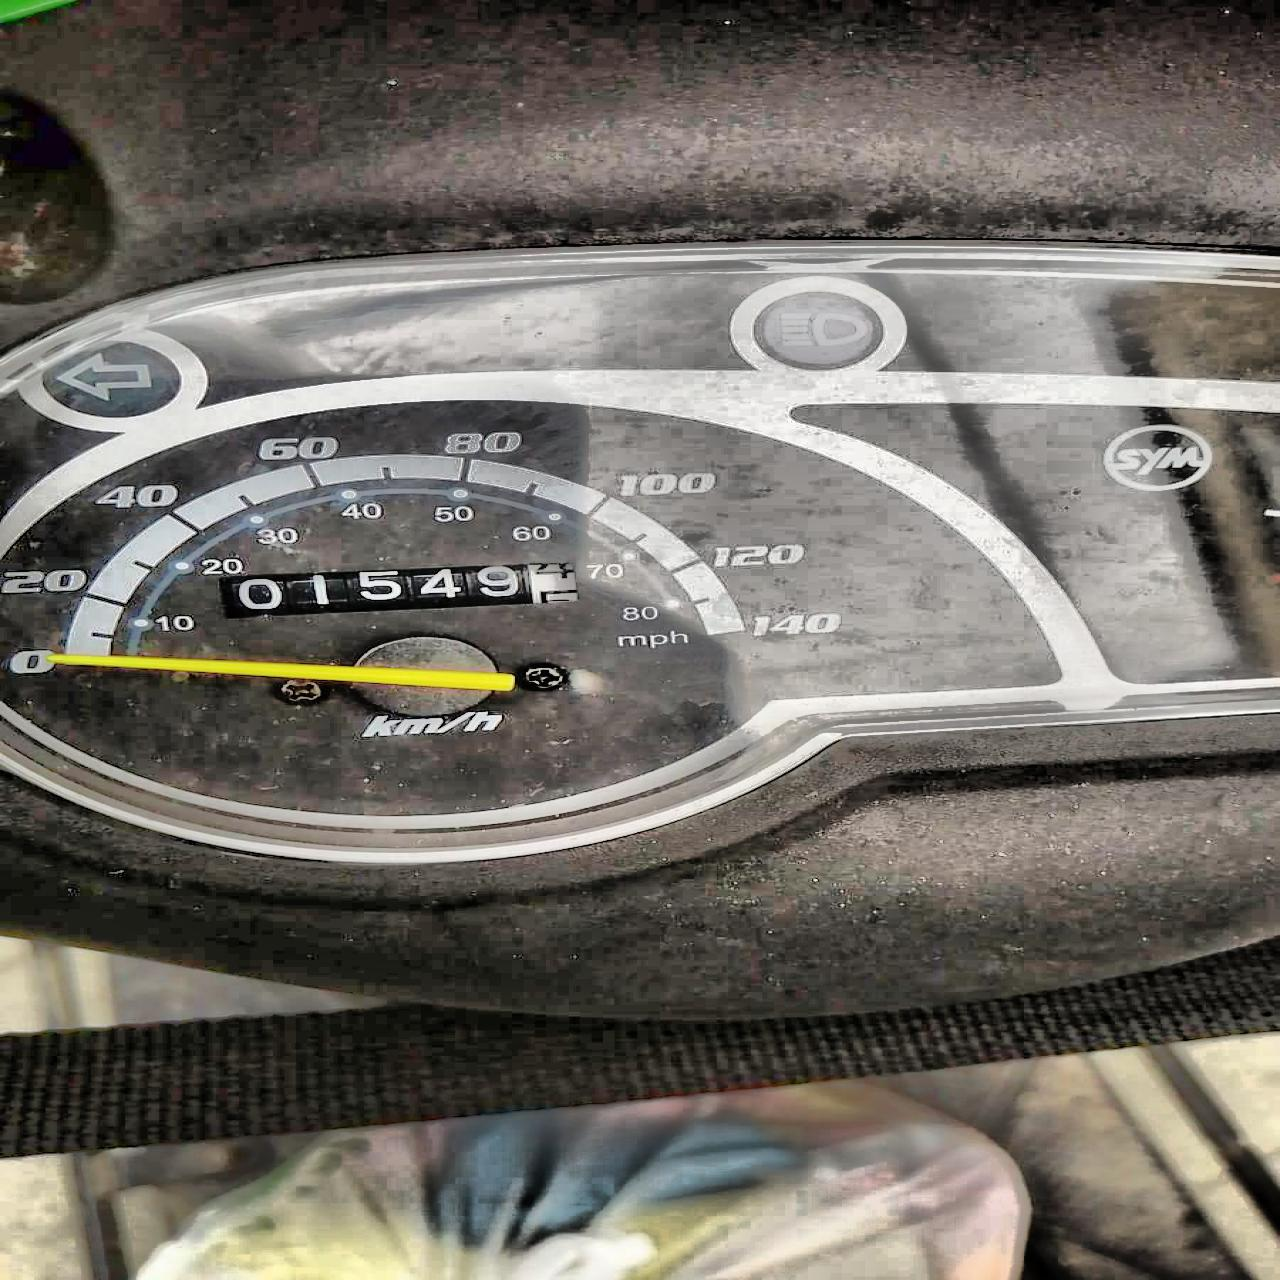0: (236, 576, 286, 611), (224, 556, 240, 576)
1: (305, 567, 336, 608)
4: (420, 566, 468, 600), (535, 554, 577, 581)
5: (354, 567, 408, 601)
9: (474, 564, 520, 598)
odometer: (219, 558, 588, 615)
